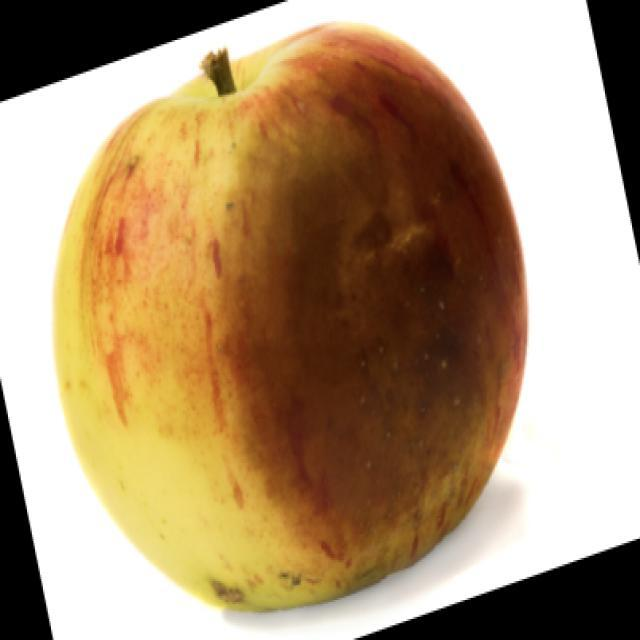Rotten: (70, 34, 540, 628)
